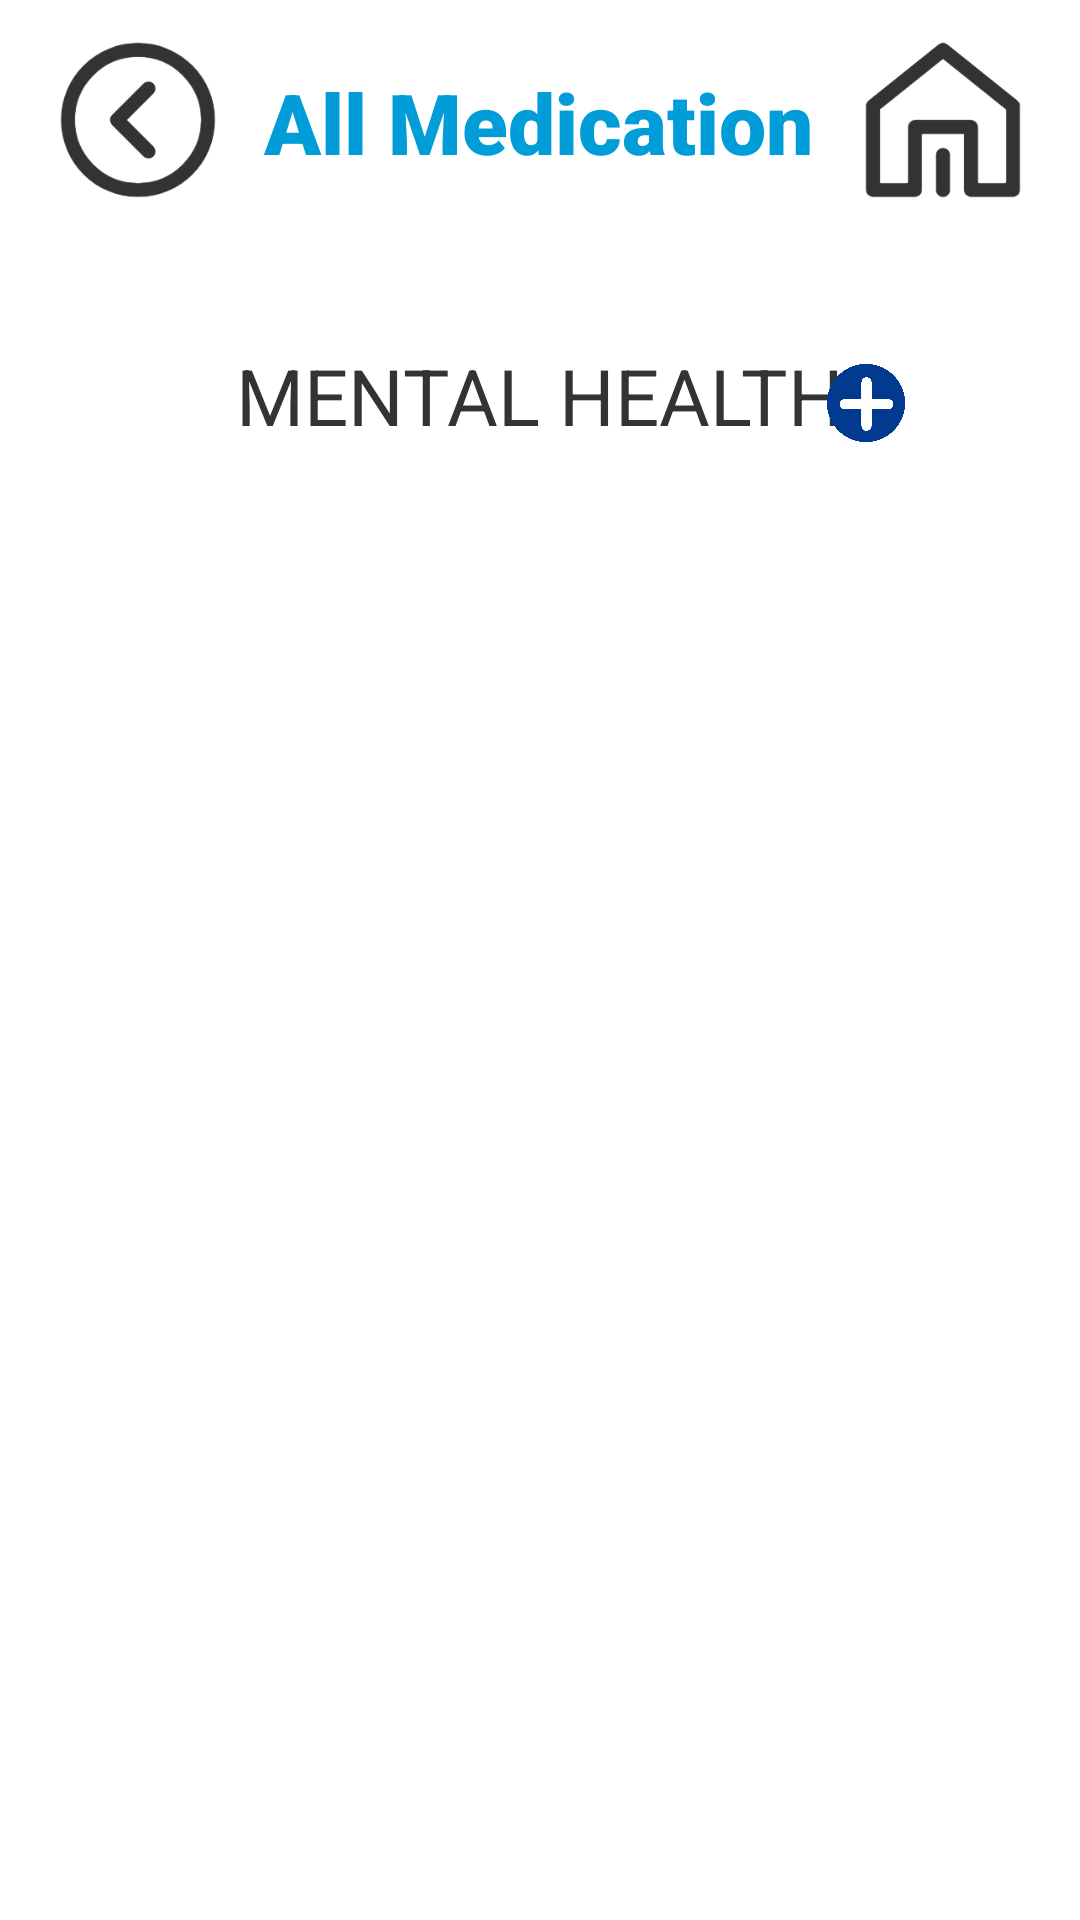

Named icons in this screenshot (1080px×1920px) and their centers, (x=x, y=y):
home: (x=943, y=120)
